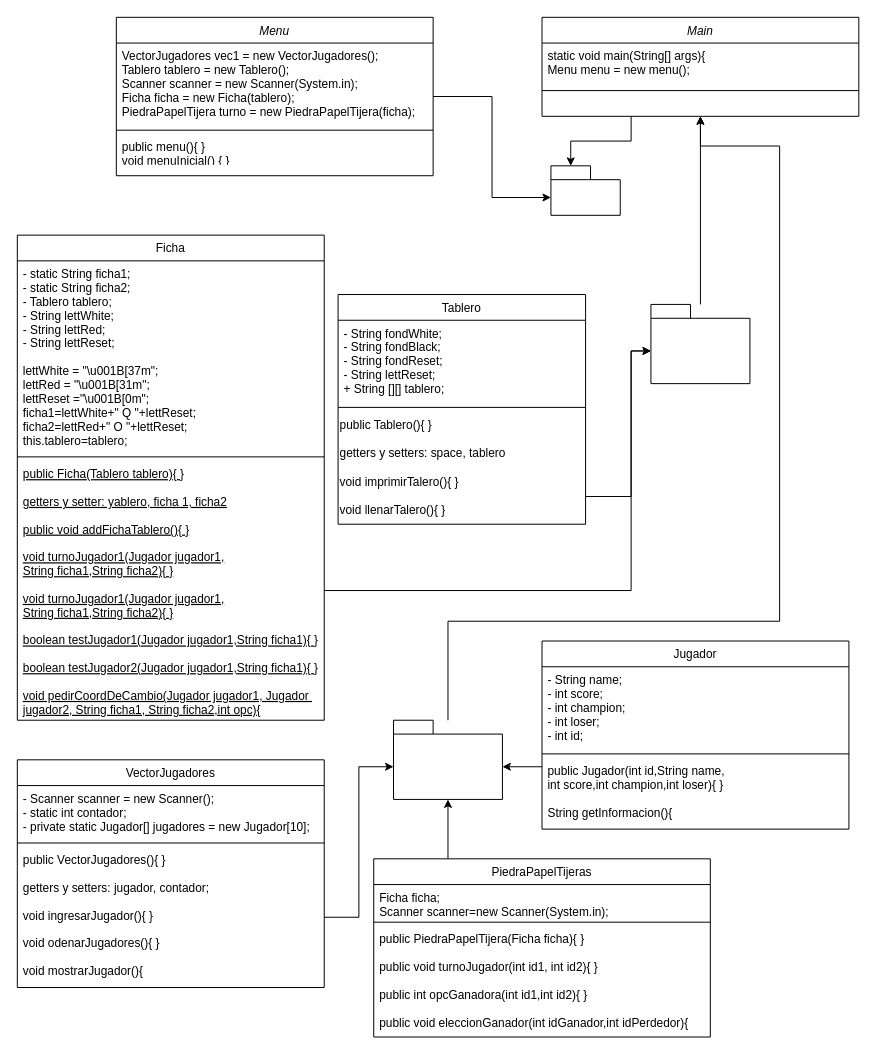
Image size: 876x1057. Some labels were removed from this diagram. Here are the shapes that lost their labels. From the top down, the centre of each, then its label:
At (585,190): "game".
At (700,343): "tabbleboard".
At (447,759): "players".
